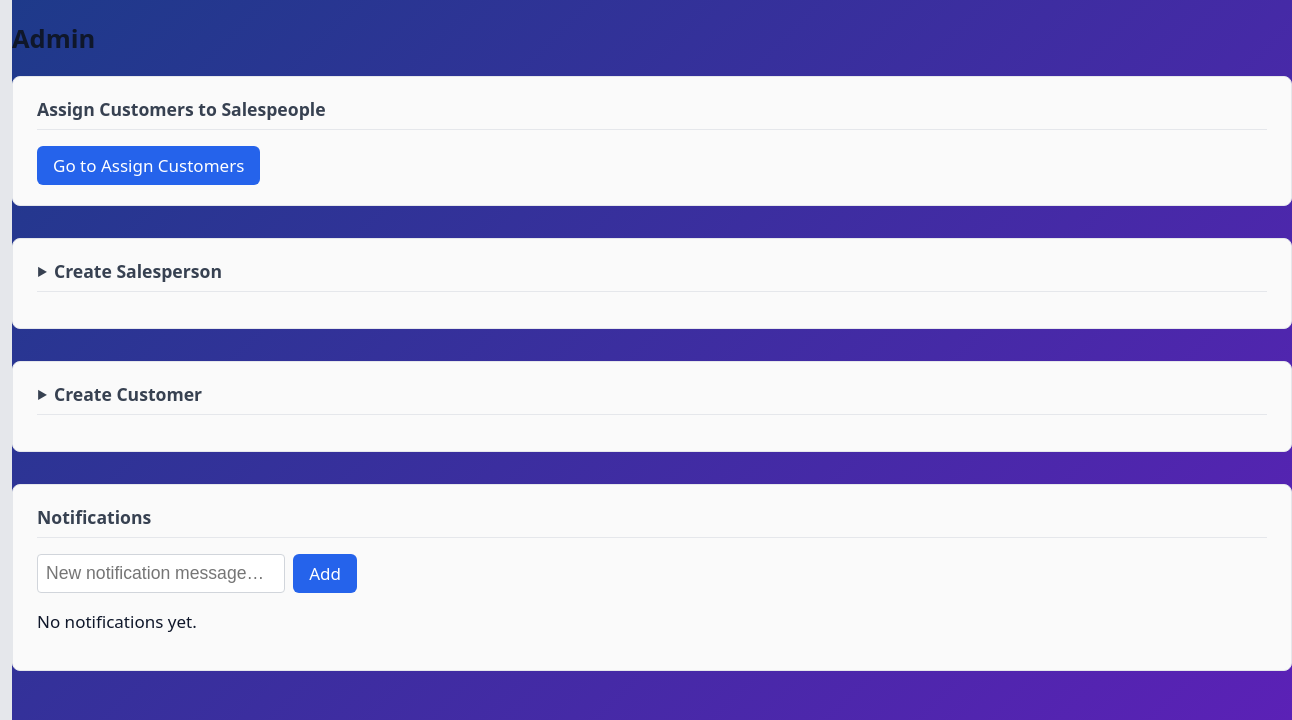
it: AdminPage › admin role › adds a notification and prepends to the list
In the field with class "notif-input": (161, 574) [37, 554, 285, 593], type "New alert"
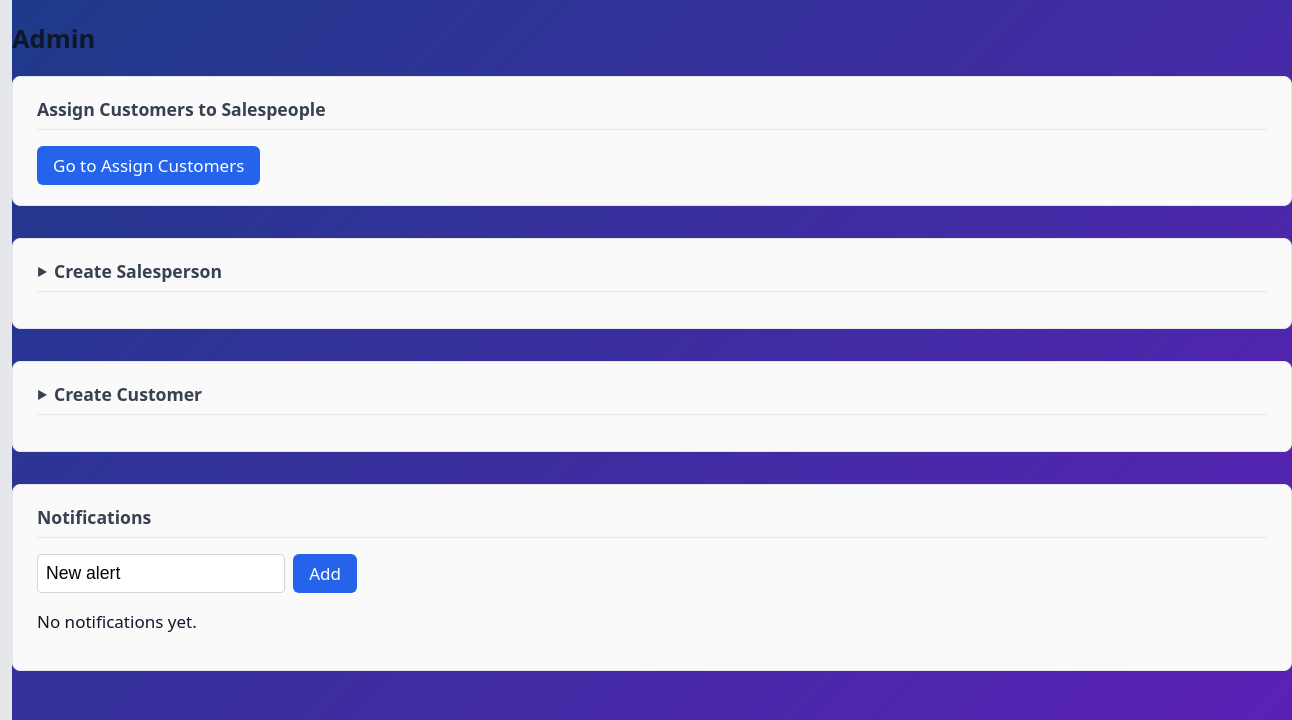
Submit the form with class "notif-form", box [37, 554, 357, 593]
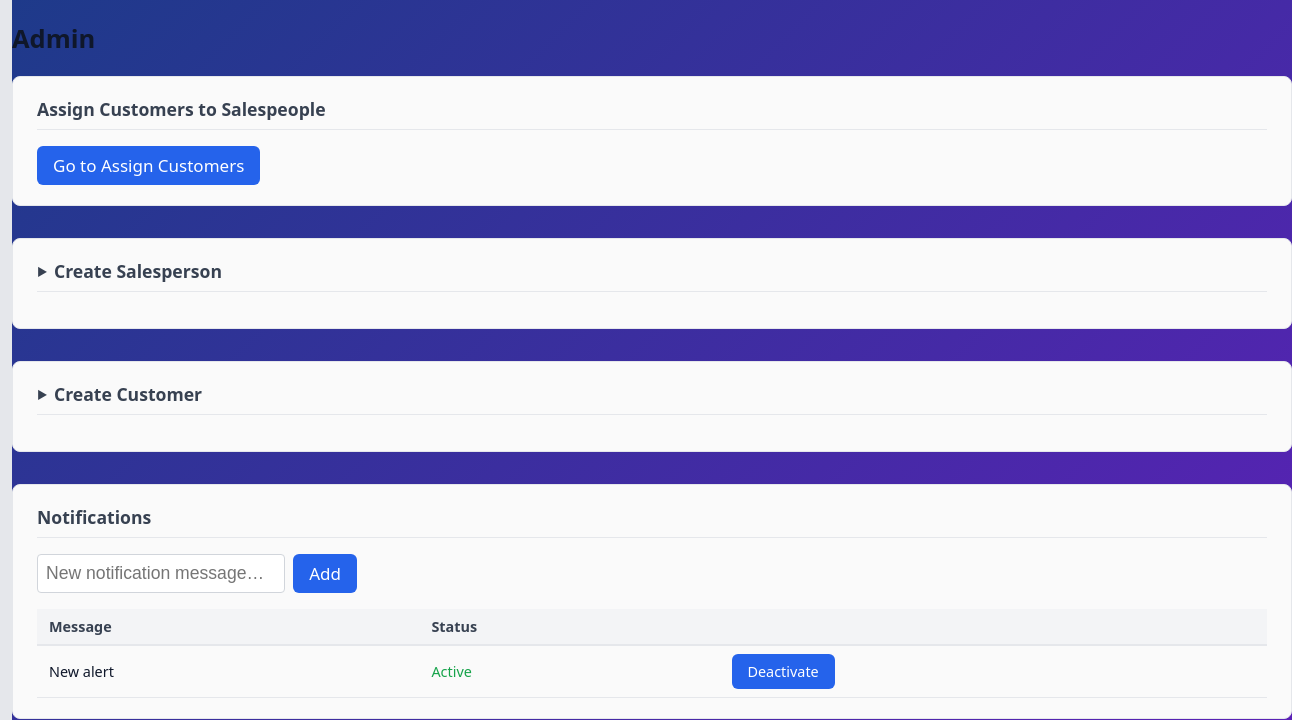
Expected: the table with class "notif-table" is shown, [37, 609, 1267, 698]
Expected: the text "New alert" is shown, [37, 645, 419, 698]
